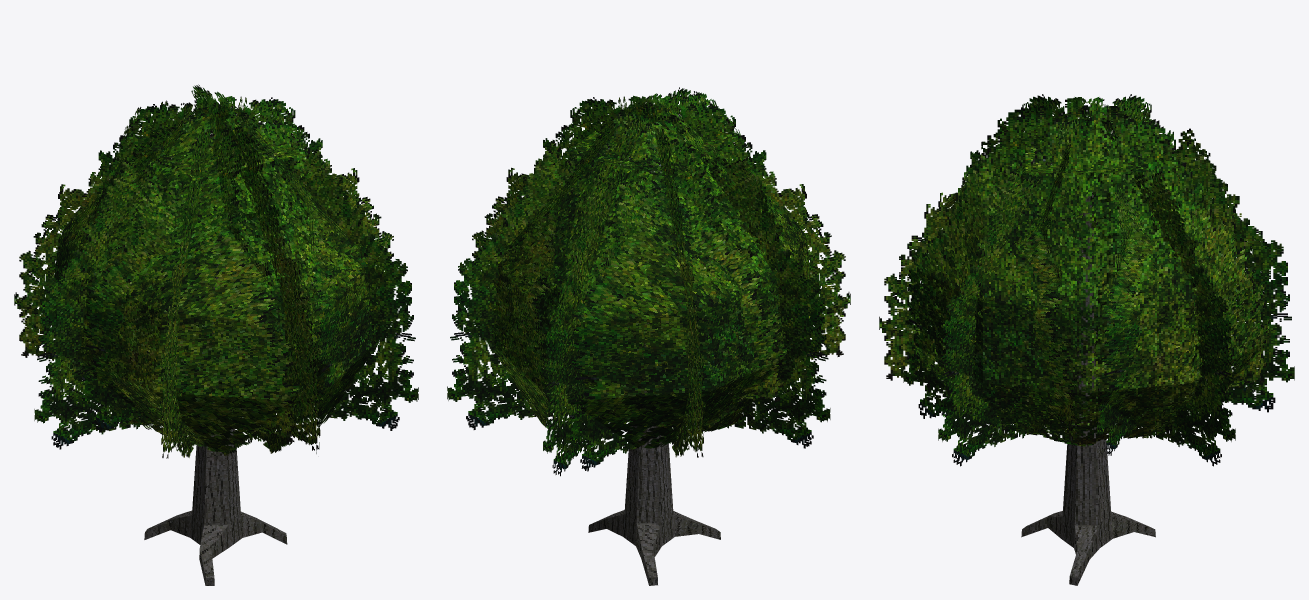
Rendered from tree01.glb.
3 renders of one model, left to right at view 1: azimuth 30°, elevation 25°; view 2: azimuth 150°, elevation 25°; view 3: azimuth 270°, elevation 25°, orthographic.
Parts seen in each view (by area): view 1: tree01_top, tree01; view 2: tree01_top, tree01; view 3: tree01_top, tree01.
Boxes of the visible parts, bbox=[...] form: tree01_top: bbox=[14, 84, 418, 458]; tree01: bbox=[144, 207, 287, 585]; tree01_top: bbox=[447, 87, 850, 476]; tree01: bbox=[588, 207, 720, 585]; tree01_top: bbox=[879, 94, 1294, 466]; tree01: bbox=[1021, 192, 1155, 585].
Size of the model in its own units: 3.36 by 4.04 by 3.36.
Materials: 1 (1 with a texture image).
